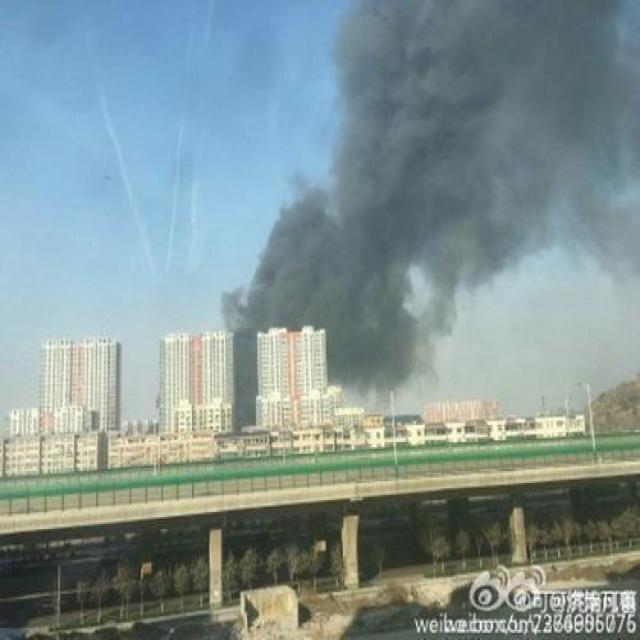smoke: (219, 0, 640, 426)
